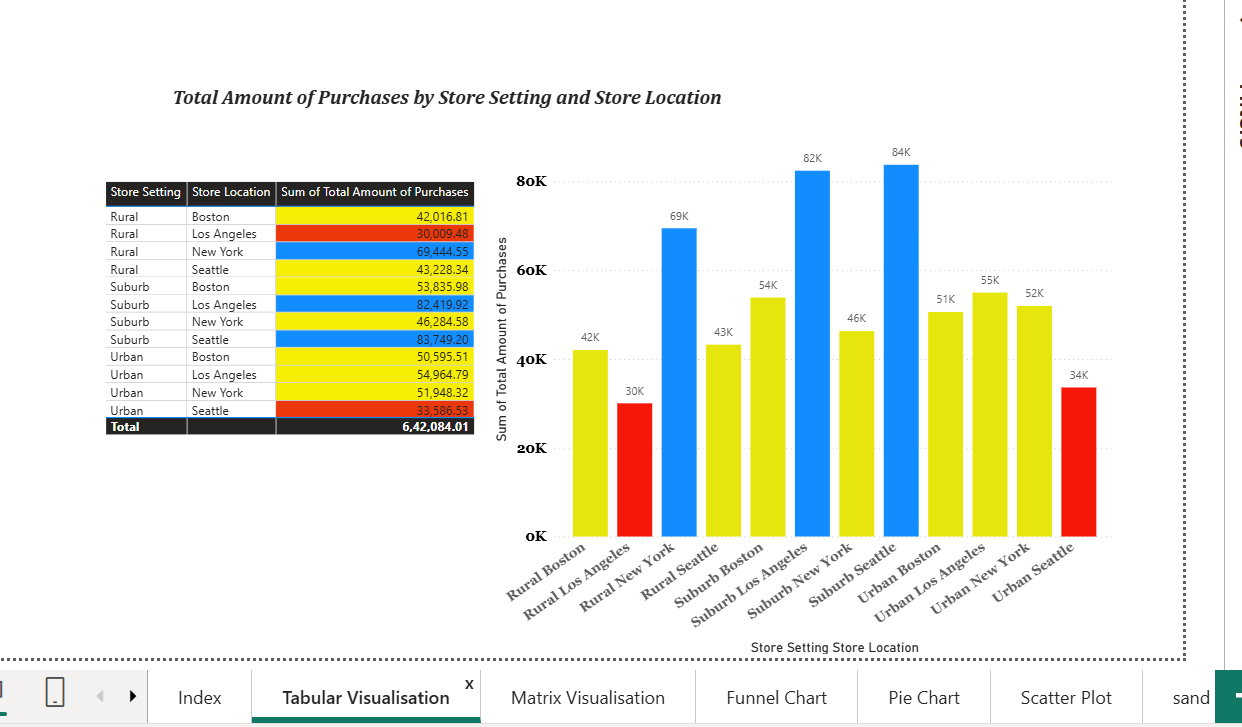

This screenshot's page, from the dashboard's own definition file:
{"tool":"powerbi","page":{"name":"Tabular Visualisation","canvas":[1280,720],"ordinal":1},"visuals":[{"type":"clusteredColumnChart","fields":{"Category":["Student Survey.Store Setting","Student Survey.Store Location"],"Y":["Sum(Student Survey.Total Amount of Purchases)"]},"box":[531.1,149,680.1,571.6],"z":0},{"type":"tableEx","fields":{"Values":["Student Survey.Store Setting","Student Survey.Store Location","Sum(Student Survey.Total Amount of Purchases)"]},"box":[111.7,200.8,419.4,317.4],"z":1000},{"type":"textbox","box":[112,518,419,150],"z":1002},{"type":"textbox","box":[112,51,419,150],"z":1003},{"type":"textbox","box":[100.4,97.2,770.8,45.3],"z":1004}]}

Visuals, with their boxes on the page's 1280x720 design canvas (x1, y1, x2, y2). These are canvas units, not pixel positions in the 1242x727 screenshot, which may show the page scaled, cropped or inside an application window:
clusteredColumnChart - Student Survey.Store Setting x Student Survey.Store Location: BBox(531, 149, 1211, 721)
tableEx - Student Survey.Store Setting x Student Survey.Store Location: BBox(112, 201, 531, 518)
textbox: BBox(112, 518, 531, 668)
textbox: BBox(112, 51, 531, 201)
textbox: BBox(100, 97, 871, 142)
